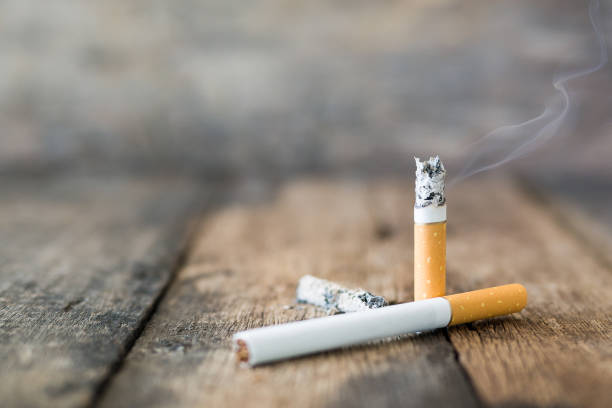cigarette: (230, 275, 526, 367), (413, 150, 449, 309)
